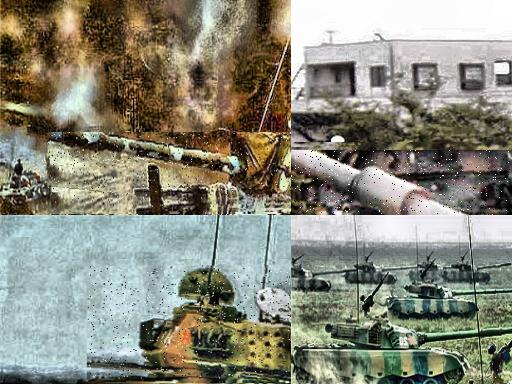tanks: (89, 267, 290, 379), (49, 134, 291, 208), (292, 316, 478, 384), (386, 282, 477, 319), (292, 257, 355, 292), (359, 252, 416, 284), (443, 253, 473, 284), (476, 264, 512, 284), (493, 355, 510, 381), (420, 253, 433, 283), (425, 263, 444, 282), (481, 328, 512, 338), (344, 267, 358, 284), (478, 289, 512, 295), (386, 275, 398, 284), (409, 272, 417, 283), (290, 121, 292, 127), (507, 382, 512, 383)
